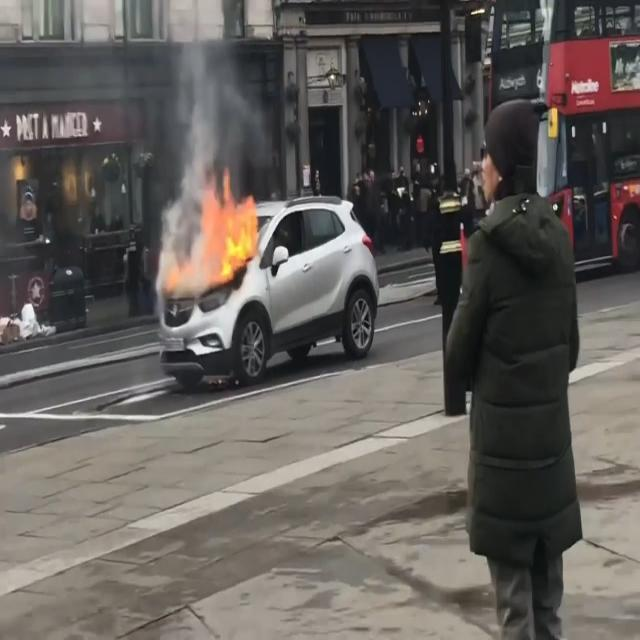fire: (158, 165, 259, 297)
